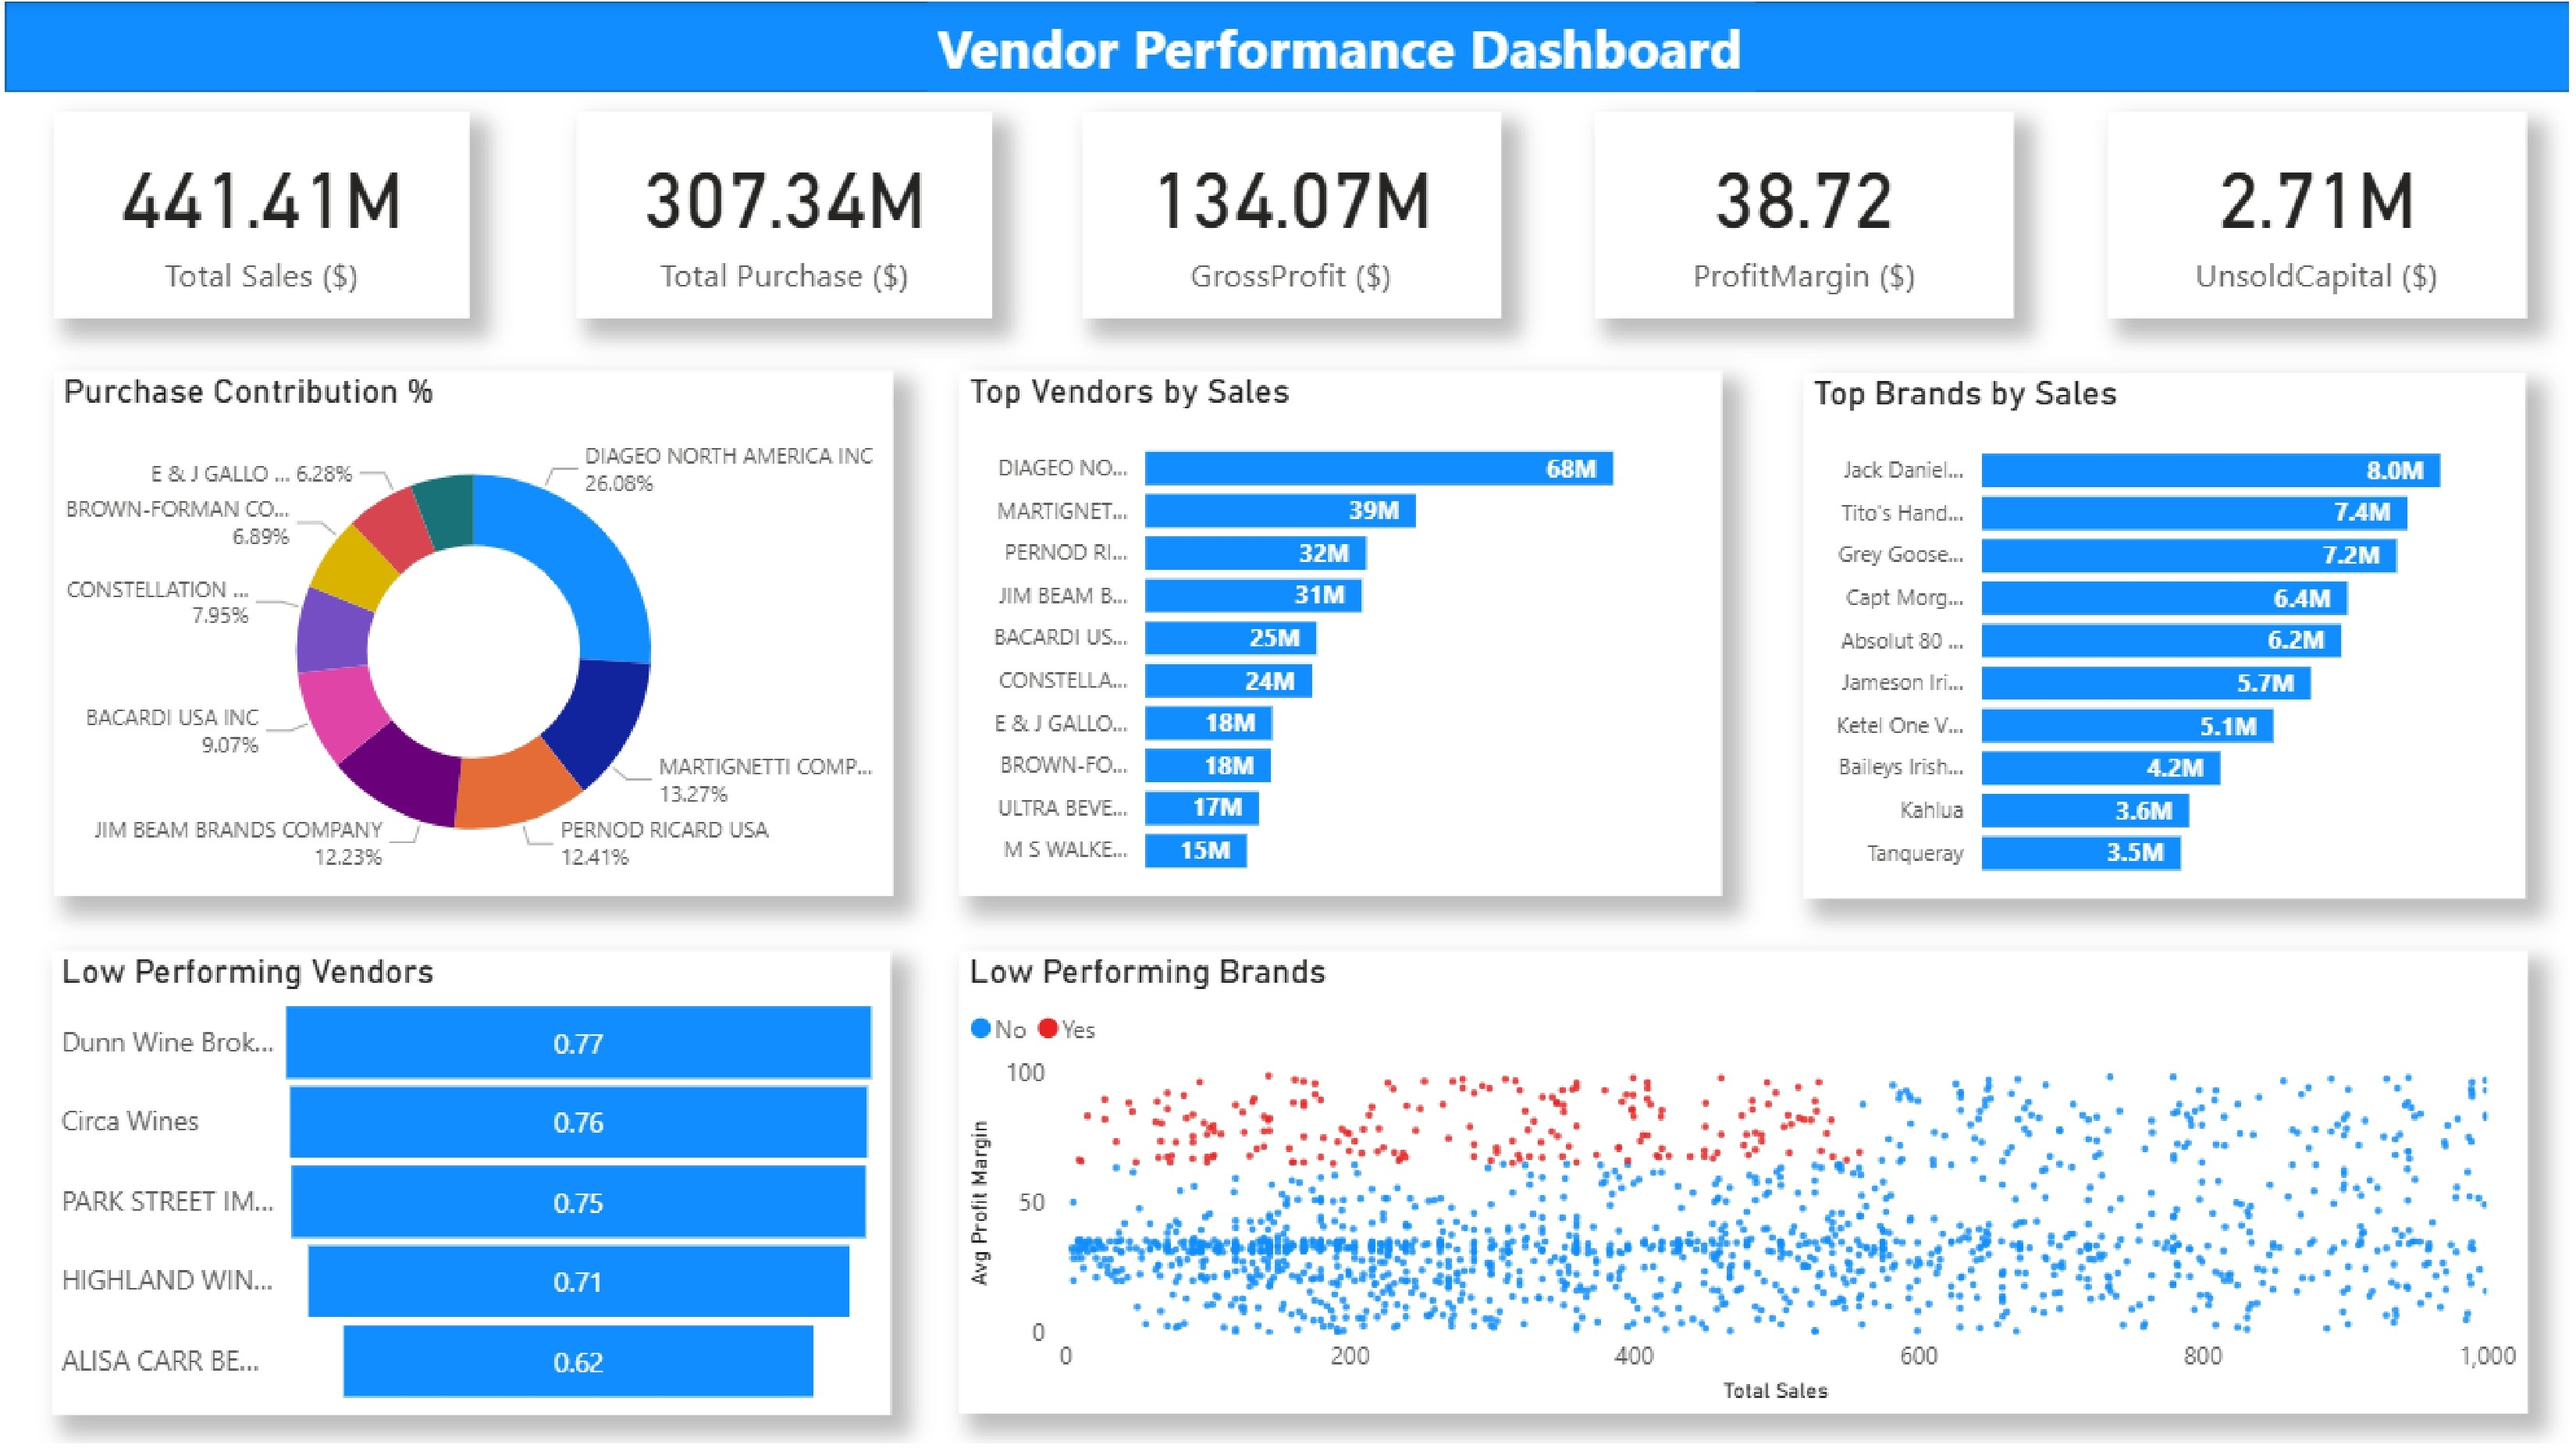

This screenshot's page, from the dashboard's own definition file:
{"tool":"powerbi","page":{"name":"Page 1","canvas":[1280,720],"ordinal":0},"visuals":[{"type":"card","fields":{"Values":["vendor_sales_summary.TotalSalesDollar"]},"box":[25,55,207.5,102.5],"z":0},{"type":"card","fields":{"Values":["vendor_sales_summary.TotalPurchaseDollars"]},"box":[285,55,207.5,102.5],"z":1000},{"type":"card","fields":{"Values":["vendor_sales_summary.GrossProfit"]},"box":[536.2,55,208.8,102.5],"z":2000},{"type":"card","fields":{"Values":["vendor_sales_summary.ProfitMargin"]},"box":[792.5,55,208.8,102.5],"z":3000},{"type":"card","fields":{"Values":["vendor_sales_summary.UnsoldCapital"]},"box":[1047.5,55,208.8,102.5],"z":4000},{"type":"donutChart","title":"Purchase Contribution %","fields":{"Category":["PurchaseContribution.VendorName"],"Y":["PurchaseContribution.PurchaseContribution%"]},"box":[25,183.8,418.8,261.2],"z":5000},{"type":"clusteredBarChart","title":"Top Vendors by Sales","fields":{"Category":["vendor_sales_summary.VendorName"],"Y":["vendor_sales_summary.TotalSalesDollar"]},"box":[476.2,183.8,380,261.2],"z":6000},{"type":"clusteredBarChart","title":"Top Brands by Sales","fields":{"Y":["vendor_sales_summary.TotalSalesDollar"],"Category":["vendor_sales_summary.Description"]},"box":[896.2,185,360,261.2],"z":7000},{"type":"funnel","title":"Low Performing Vendors","fields":{"Category":["LowTurnoverVendor.VendorName"],"Y":["LowTurnoverVendor.AvgStockTurnover"]},"box":[23.8,472.5,418.8,231.2],"z":8000},{"type":"scatterChart","title":"Low Performing Brands","fields":{"X":["BrandPerformance.TotalSales"],"Category":["BrandPerformance.Description"],"Y":["BrandPerformance.AvgProfitMargin"],"Series":["BrandPerformance.TargetBrand"]},"box":[476.2,472.5,781.2,230],"z":9000},{"type":"shape","box":[0,0,1280,45],"z":10000},{"type":"textbox","box":[460,0,412.5,45],"z":11000}]}

Visuals, with their boxes in screenshot pixels (x1, y1, x2, y2), scaled from the page's 1280x720 canvas onto the 2576x1448 screenshot:
card - vendor_sales_summary.TotalSalesDollar: [left=50, top=111, right=468, bottom=317]
card - vendor_sales_summary.TotalPurchaseDollars: [left=574, top=111, right=991, bottom=317]
card - vendor_sales_summary.GrossProfit: [left=1079, top=111, right=1500, bottom=317]
card - vendor_sales_summary.ProfitMargin: [left=1595, top=111, right=2015, bottom=317]
card - vendor_sales_summary.UnsoldCapital: [left=2108, top=111, right=2528, bottom=317]
"Purchase Contribution %" donutChart: [left=50, top=370, right=893, bottom=895]
"Top Vendors by Sales" clusteredBarChart: [left=959, top=370, right=1723, bottom=895]
"Top Brands by Sales" clusteredBarChart: [left=1804, top=372, right=2528, bottom=898]
"Low Performing Vendors" funnel: [left=48, top=950, right=891, bottom=1415]
"Low Performing Brands" scatterChart: [left=959, top=950, right=2531, bottom=1413]
shape: [left=0, top=0, right=2575, bottom=91]
textbox: [left=926, top=0, right=1756, bottom=91]
